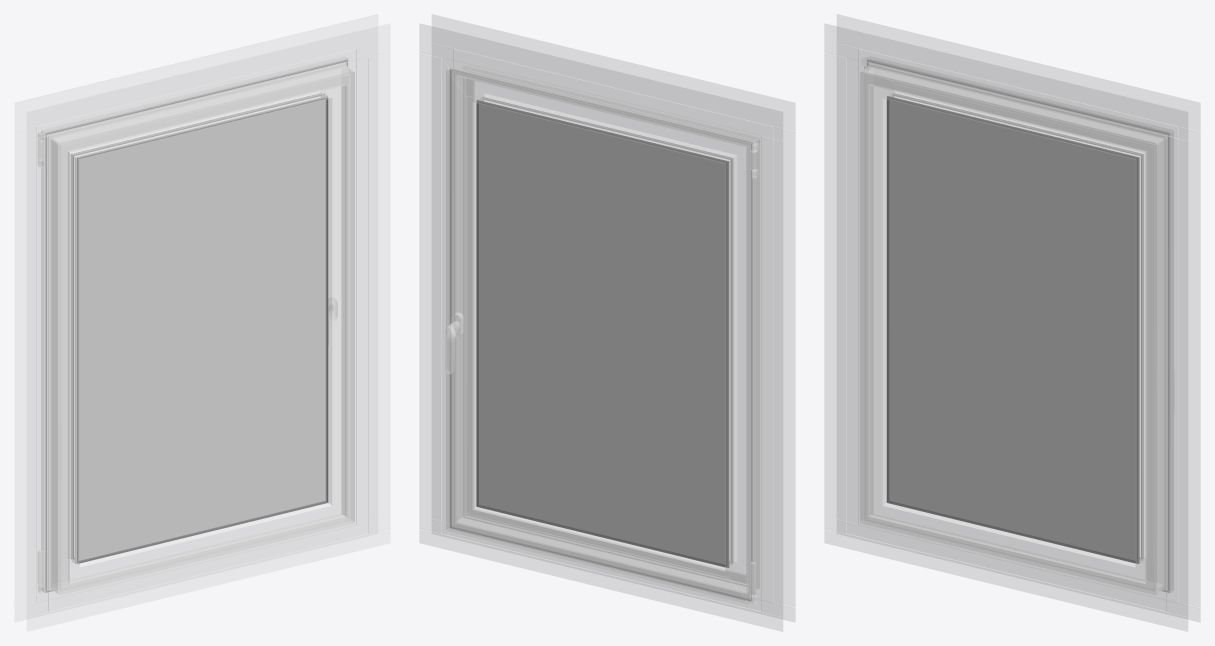
File: w_tilt.glb
3 views of the same model, side by side, from view 1: azimuth 30°, elevation 25°; view 2: azimuth 150°, elevation 25°; view 3: azimuth 330°, elevation 25° (orthographic).
Visible parts, largest first — view 1: #WIN0003_Window_#WIN0003_Textures_0, #WIN0003_Frame_#WIN0003_Textures_0; view 2: #WIN0003_Window_#WIN0003_Textures_0, #WIN0003_Frame_#WIN0003_Textures_0; view 3: #WIN0003_Window_#WIN0003_Textures_0, #WIN0003_Frame_#WIN0003_Textures_0.
Part boxes in pixels (left/top/right/bottom): #WIN0003_Window_#WIN0003_Textures_0: left=72, top=94, right=327, bottom=563; #WIN0003_Frame_#WIN0003_Textures_0: left=14, top=14, right=390, bottom=631; #WIN0003_Window_#WIN0003_Textures_0: left=476, top=97, right=732, bottom=567; #WIN0003_Frame_#WIN0003_Textures_0: left=419, top=14, right=795, bottom=631; #WIN0003_Window_#WIN0003_Textures_0: left=887, top=96, right=1142, bottom=563; #WIN0003_Frame_#WIN0003_Textures_0: left=824, top=14, right=1200, bottom=631.
Bounding box in the file's own units: 1.04 × 1.42 × 0.1279.
Materials: 2 (1 with a texture image).
